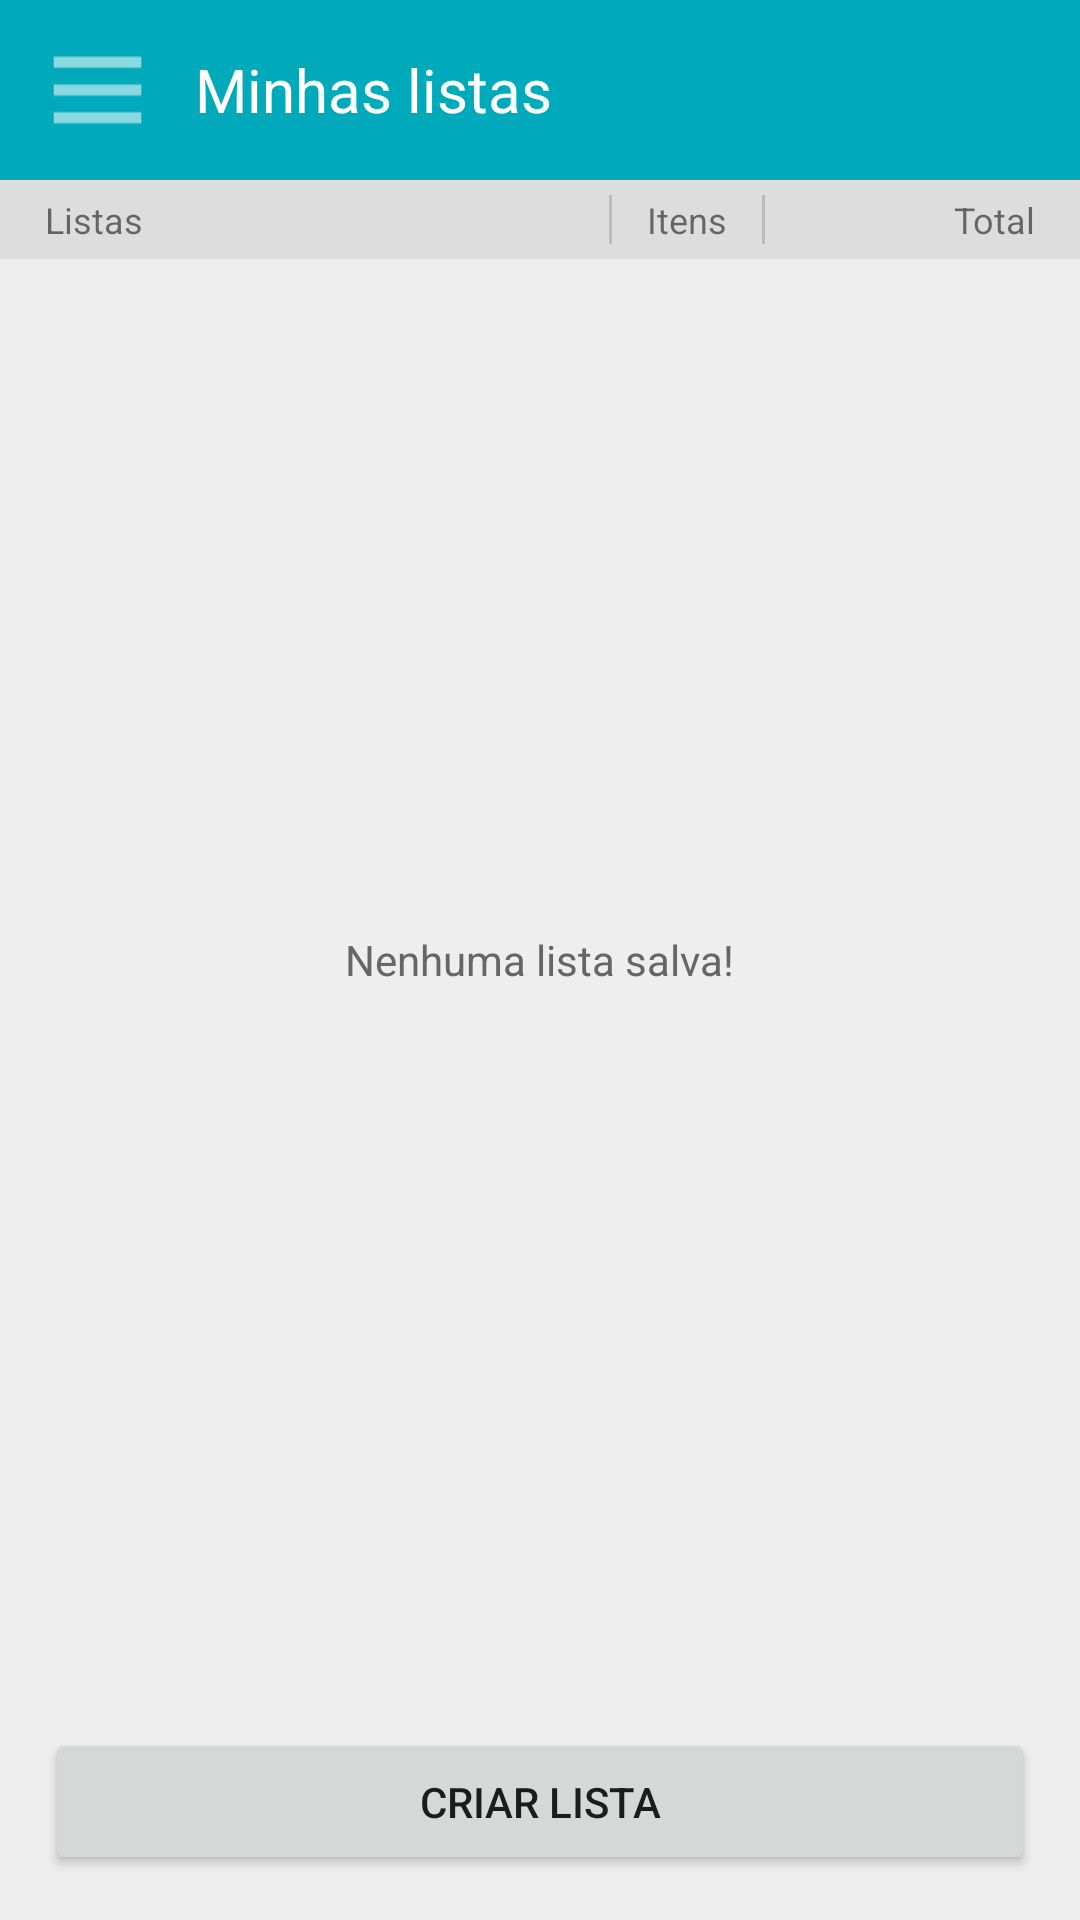

Locate icon controls on the screen. Image size 1080px x 1920px, boxes as rect(x1, y1, x2, y2).
menu: rect(53, 56, 142, 124)
